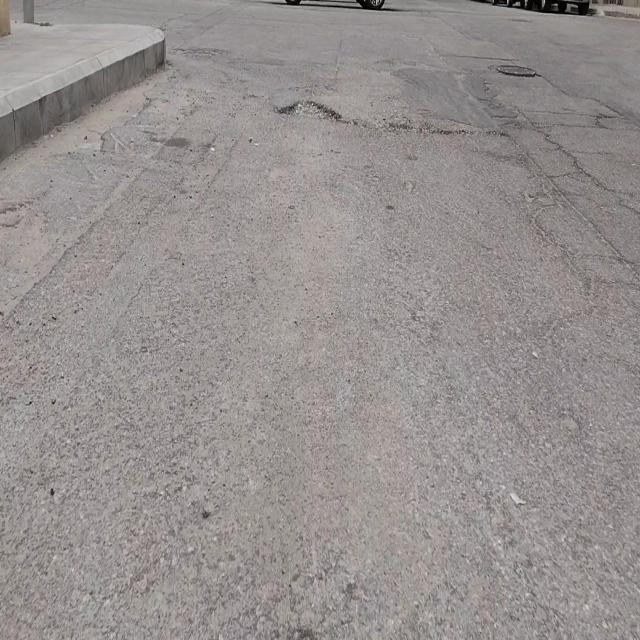Pothole: (278, 101, 341, 121)
